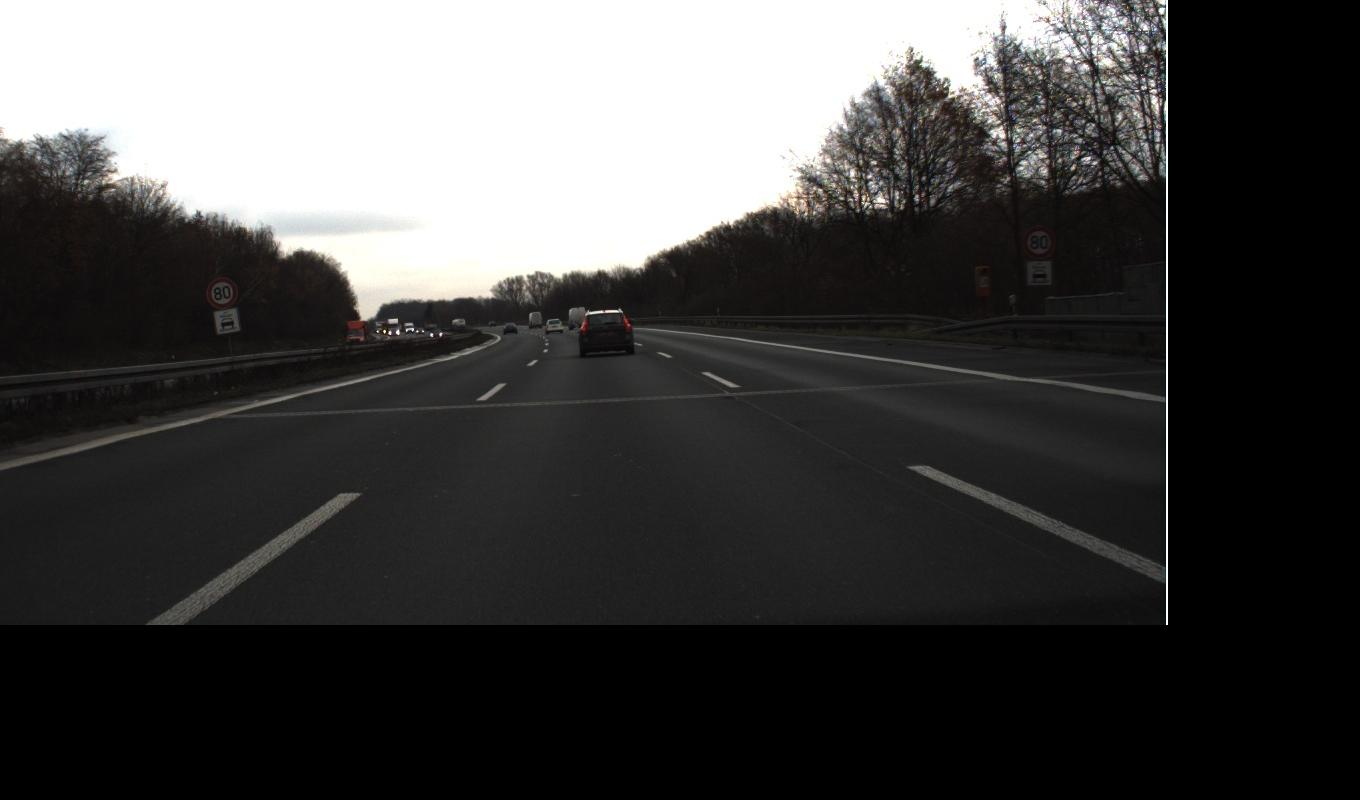NO-speed limit 80: (204, 223, 1055, 310)
